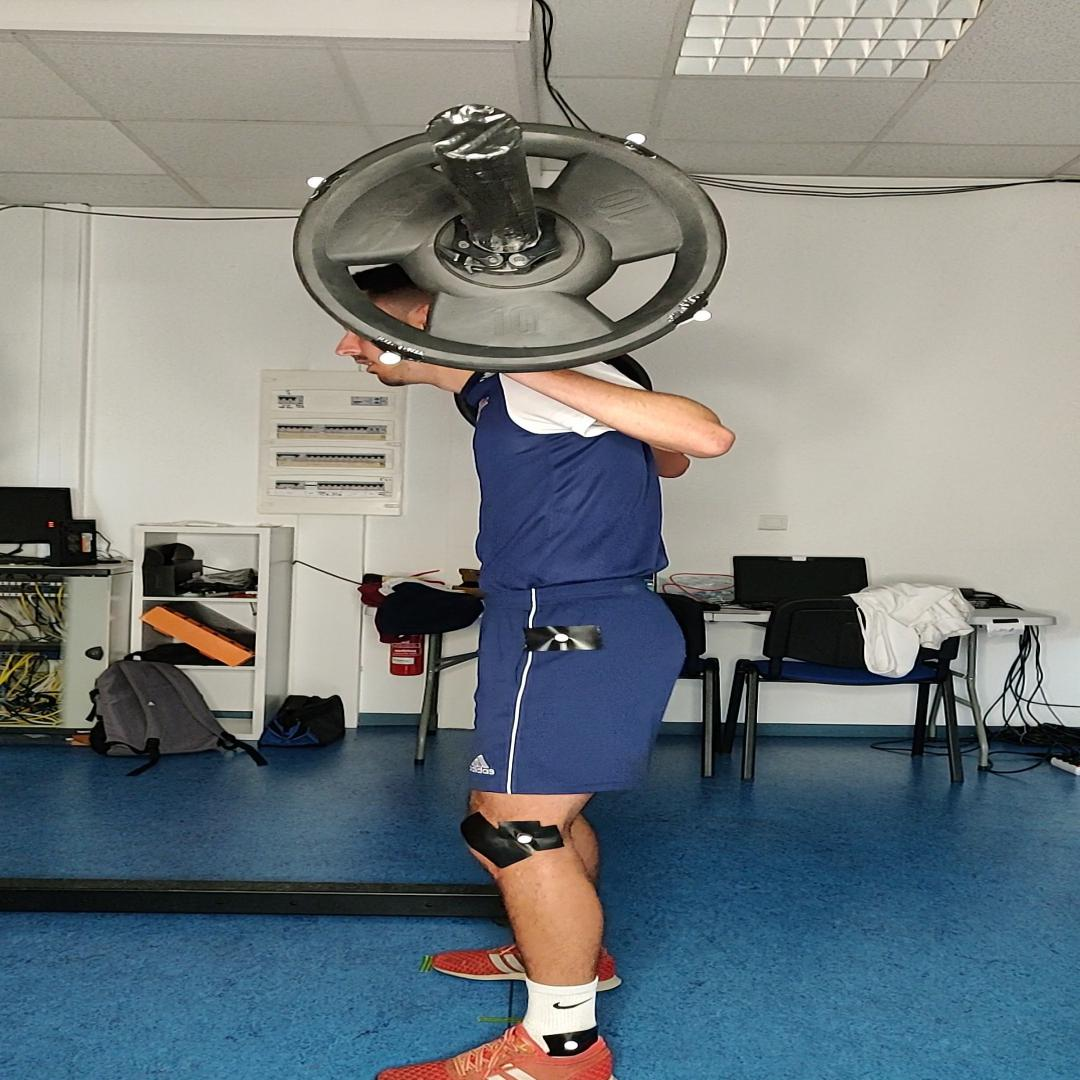Bar: (426, 104, 522, 160)
Barbell: (294, 122, 727, 373)
